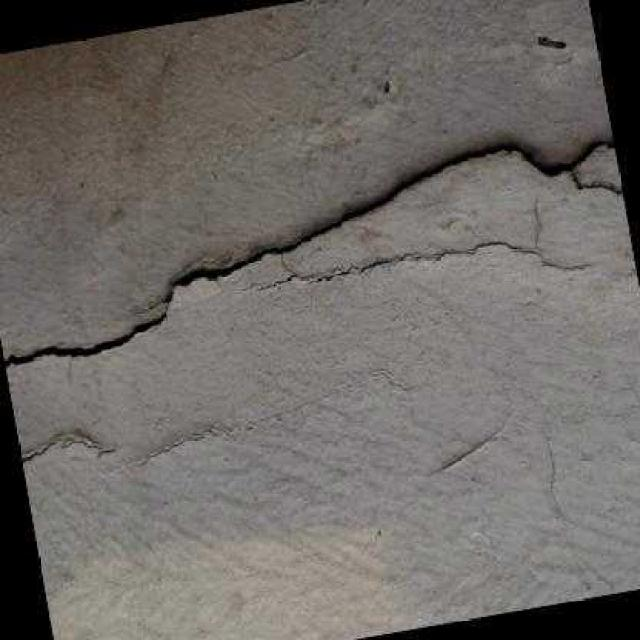D00: (0, 131, 624, 370)
